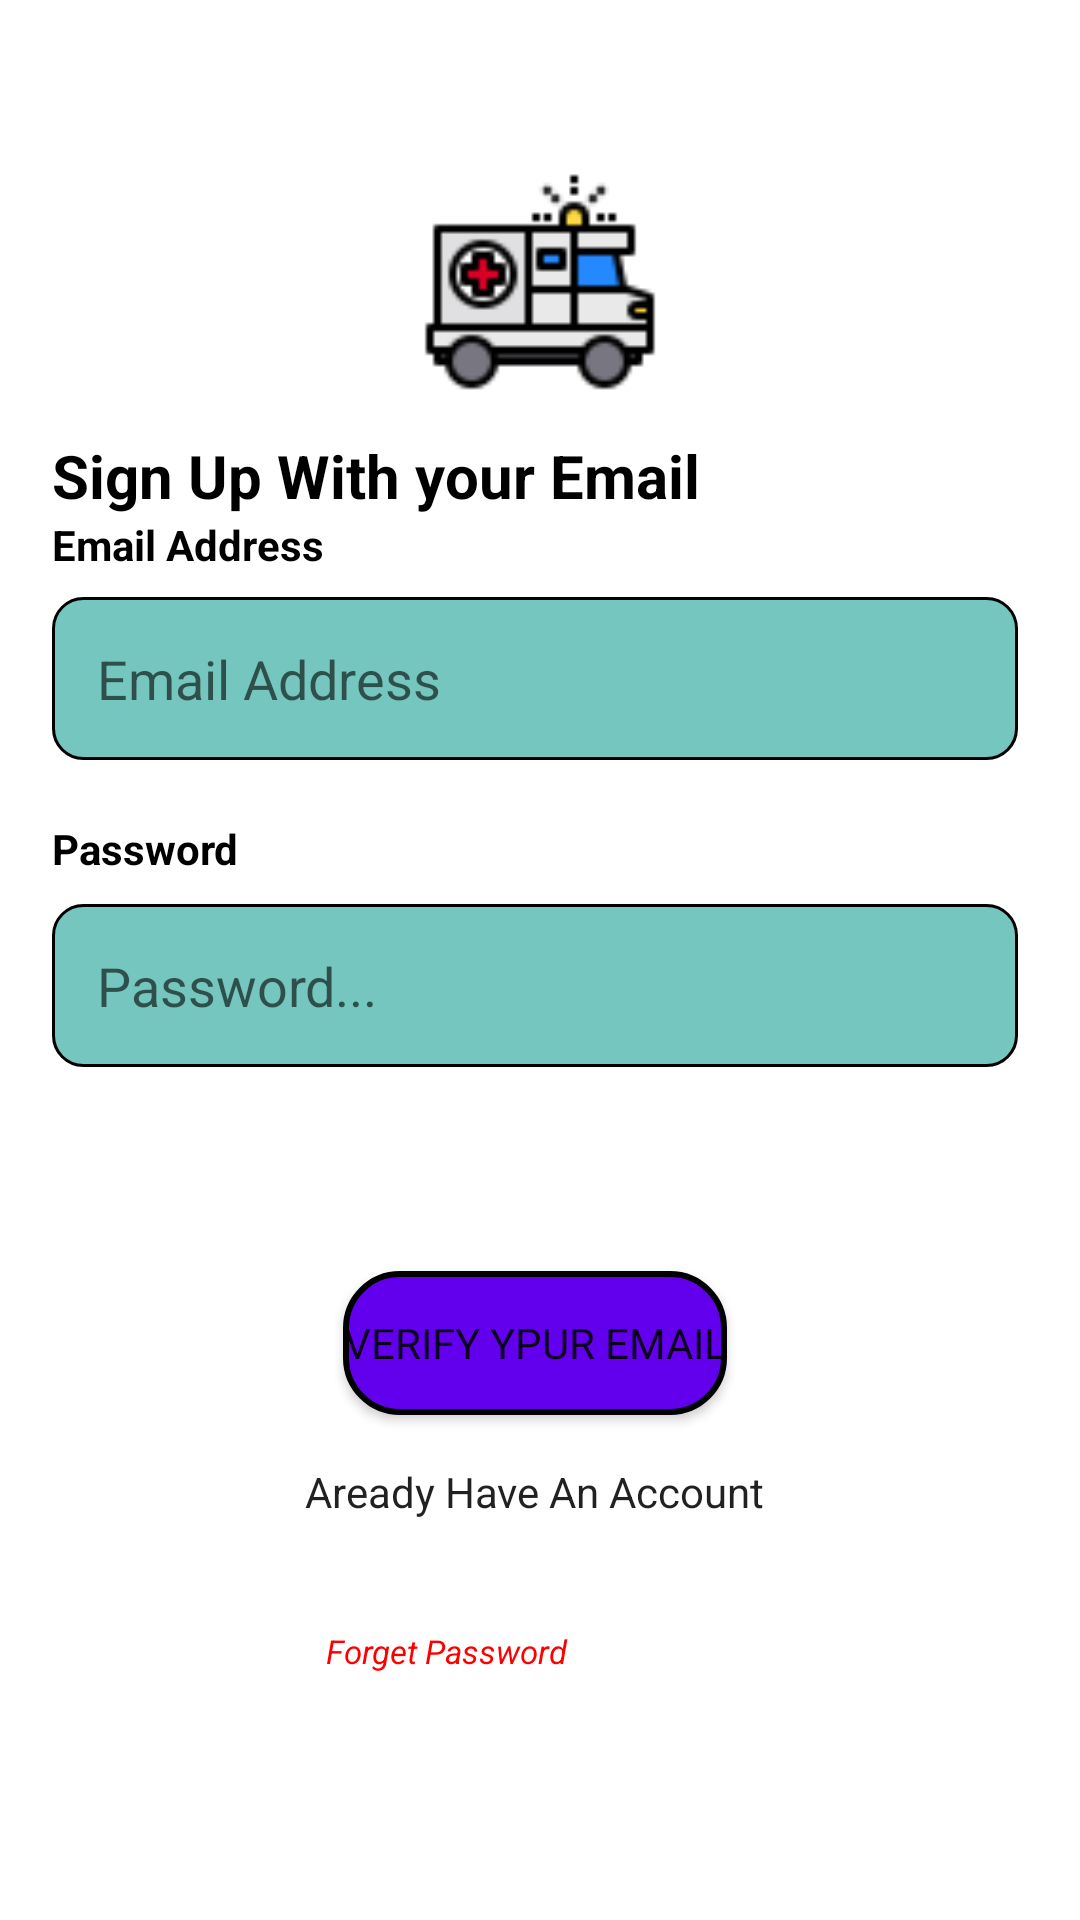

Icons on this 1080 x 1920 Android screen, each with the point to tap as (x=x, y=y):
emergency truck: (x=540, y=282)
